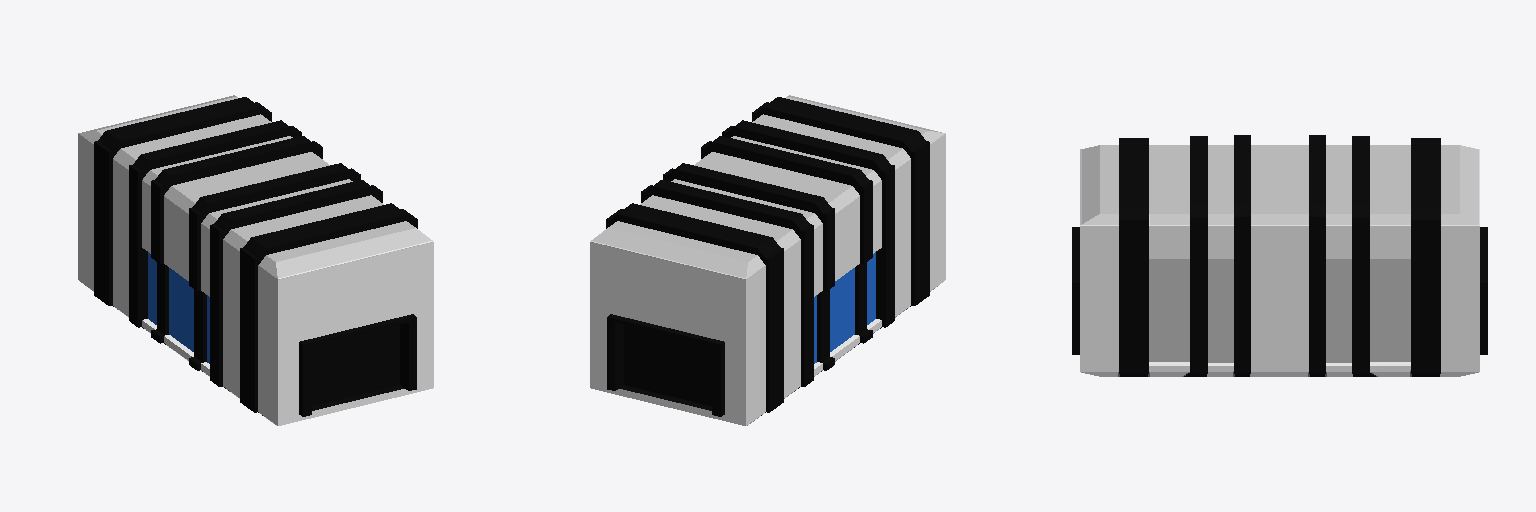
3 renders of one model, left to right at view 1: azimuth 30°, elevation 25°; view 2: azimuth 150°, elevation 25°; view 3: azimuth 270°, elevation 25°, orthographic.
Parts seen in each view (by area): view 1: Skrzynia1_Skrzynia.NR1_Cube.040; view 2: Skrzynia1_Skrzynia.NR1_Cube.040; view 3: Skrzynia1_Skrzynia.NR1_Cube.040.
Boxes of the visible parts, x1=… form: Skrzynia1_Skrzynia.NR1_Cube.040: x1=78, y1=95, x2=433, y2=425; Skrzynia1_Skrzynia.NR1_Cube.040: x1=590, y1=95, x2=945, y2=425; Skrzynia1_Skrzynia.NR1_Cube.040: x1=1072, y1=135, x2=1487, y2=376.
Bounding box in the file's own units: 2.09 × 2.12 × 4.61.
Materials: 1 (1 with a texture image).